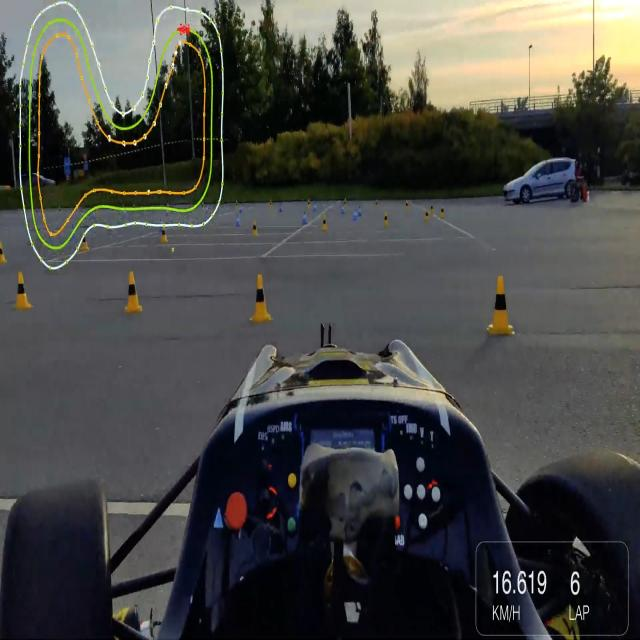blue_cone: (302, 212, 308, 225), (236, 214, 240, 227)
yellow_cone: (489, 276, 512, 334), (252, 275, 270, 322), (125, 272, 142, 312), (14, 272, 31, 310), (161, 224, 167, 242), (82, 233, 88, 250), (252, 220, 258, 236), (384, 212, 389, 227), (322, 215, 327, 229)
